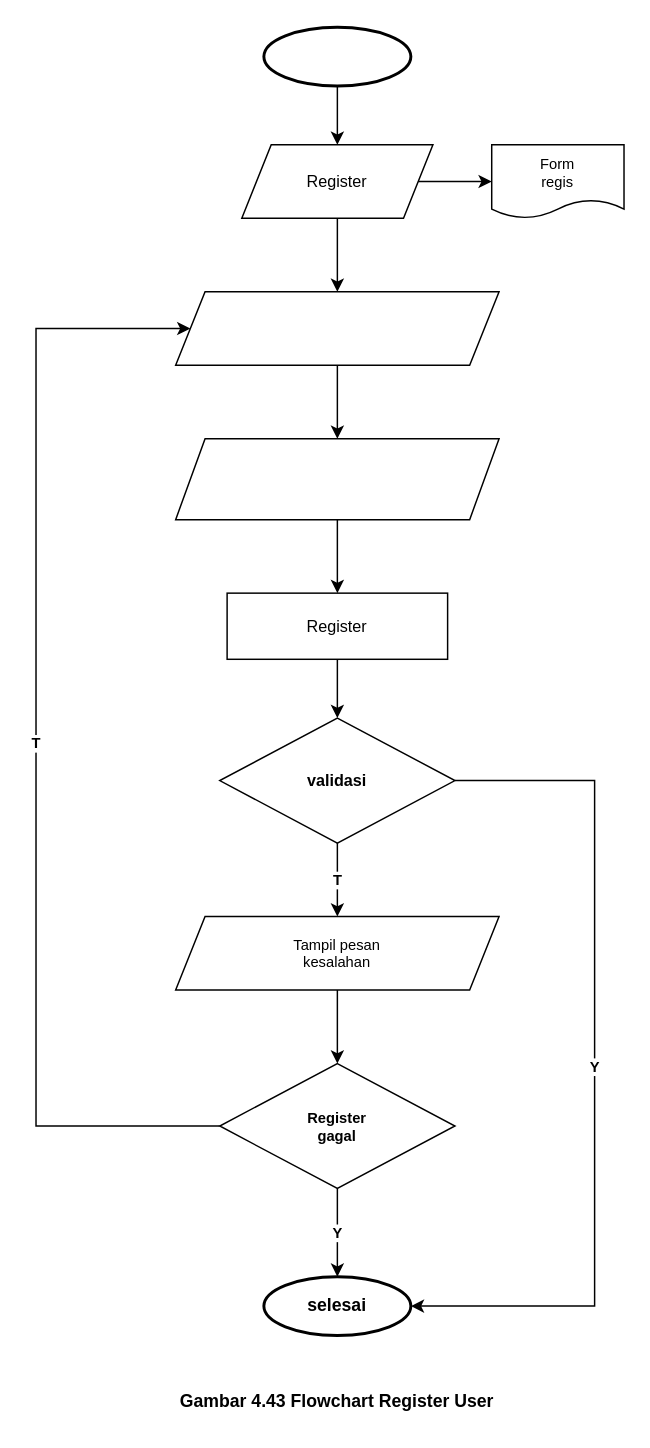
This 650x1448 diagram has some shape labels left out. Each missing label, with the centre of its shape:
"Masukan nama lengkap ussername dan password" goes at (336,478).
"Mulai" goes at (337,56).
"Tampil form register" goes at (336,327).
